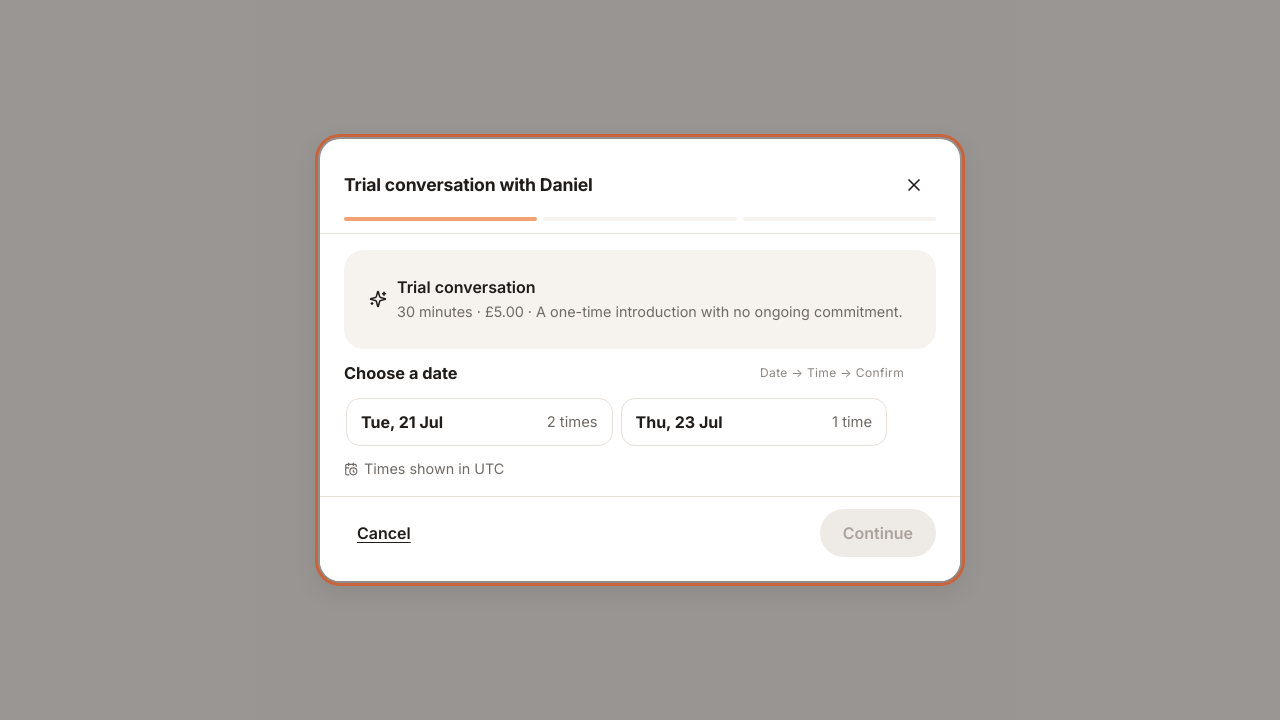
Test: test-call flow › 8. member selection is permission-scoped (coordinator sees only their members)
Expected: the heading "Choose a date" is shown, [344,361,458,386]
What coordinates should you click on to do the following:
click the button with aria-label "21 July"
I would click on:
 (402, 422)
Its box is [346,398,612,446].
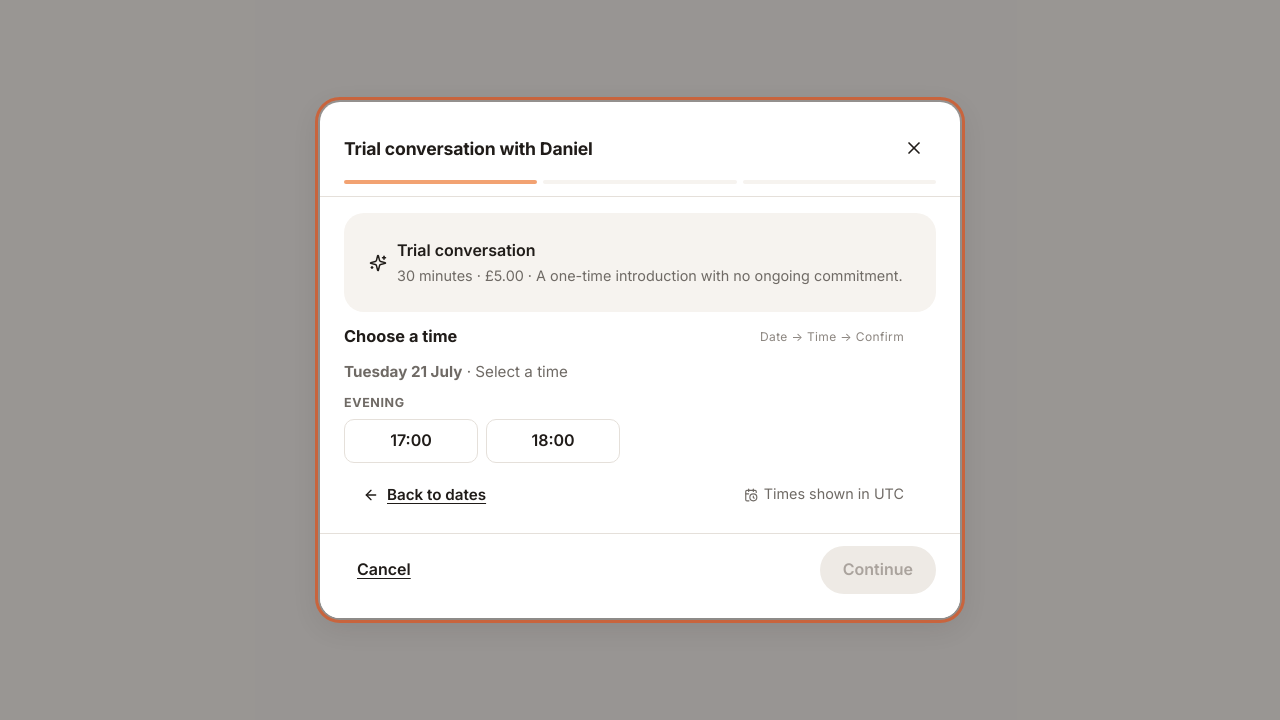
What coordinates should you click on to do the following:
click the button named "at 18:00"
I would click on:
 (553, 441)
Its box is [486,419,620,463].
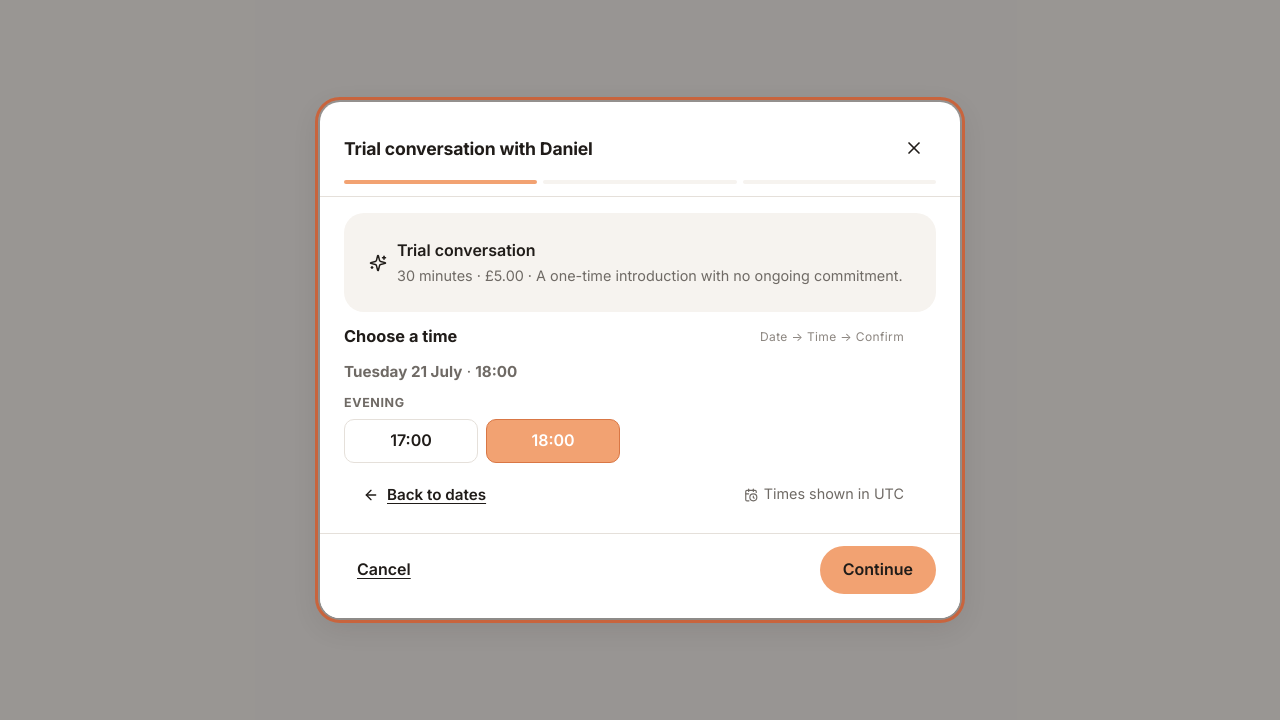
What coordinates should you click on to do the following:
click the button "Continue"
I would click on:
 (878, 570)
Its box is [820,546,936,594].
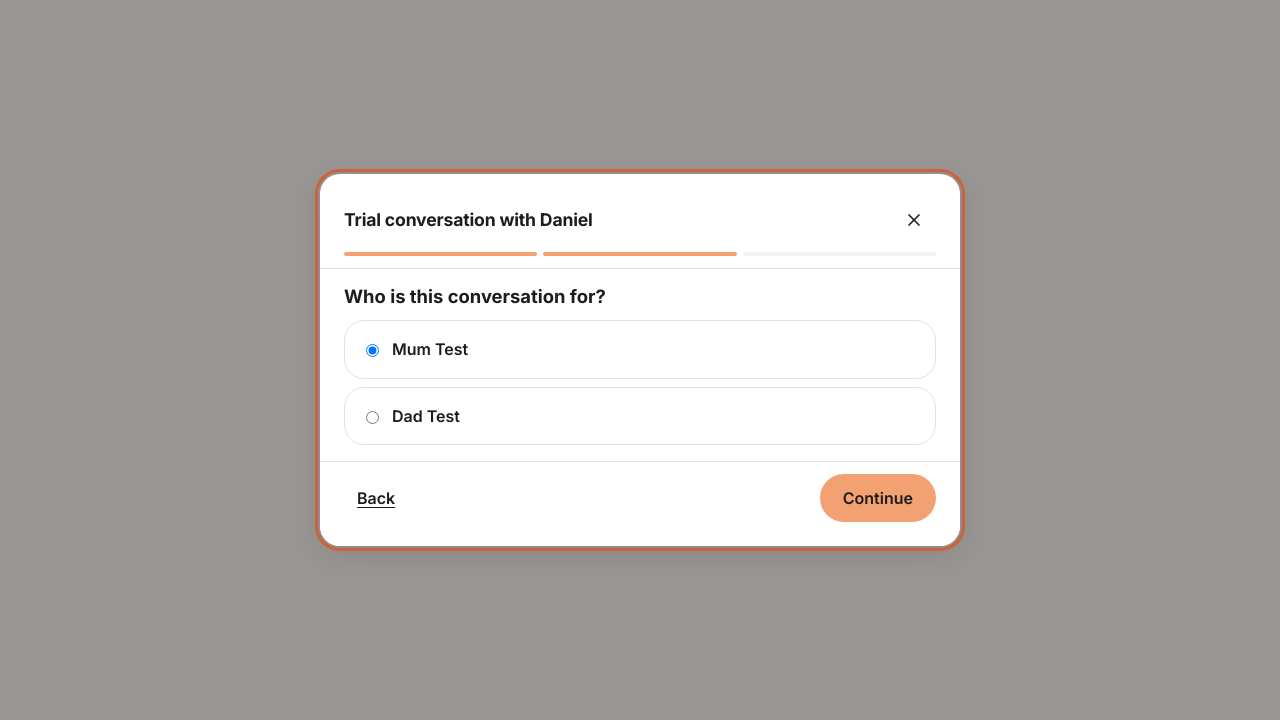
Now the heading "Who is this conversation for?" is shown, box [344,285,606,307]
Now the number of radio buttons is 2, box [366,344,379,357]; [366,411,379,424]
